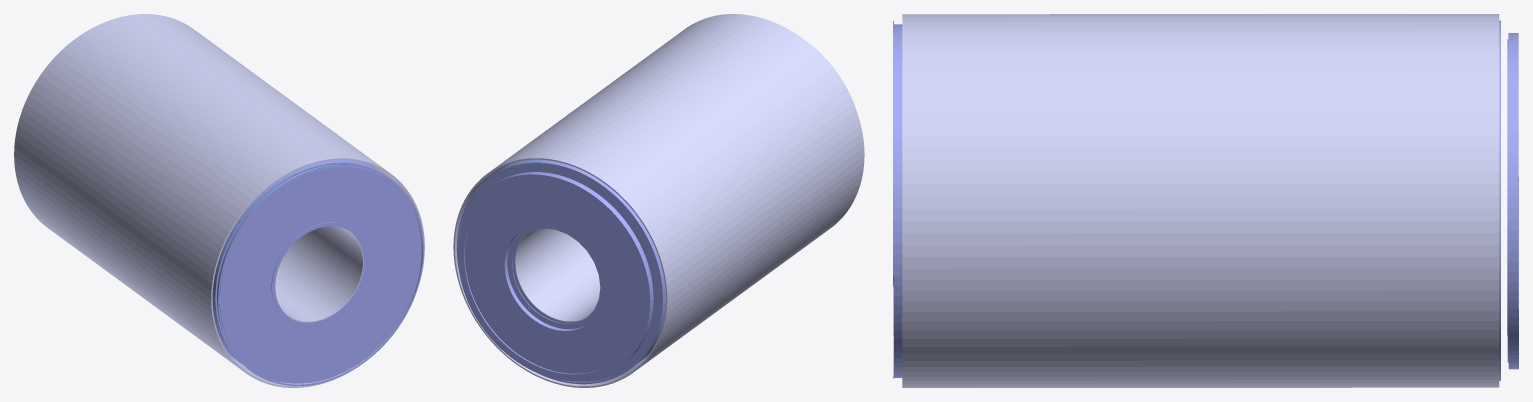
File: SCT-SideA.glb
The picture shows the model from 3 angles, left to right: view 1: azimuth 30°, elevation 25°; view 2: azimuth 150°, elevation 25°; view 3: azimuth 270°, elevation 25°; orthographic projection. The views are drawn at different scales.
Visible parts, largest first — view 1: null; view 2: null; view 3: null.
Boxes of the visible parts, bbox=[...] form: null: bbox=[14, 14, 424, 387]; null: bbox=[453, 14, 864, 387]; null: bbox=[893, 14, 1518, 387].
Bounding box in the file's own units: 1.22 × 1.22 × 2.04.
